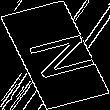N_E: (13, 27, 97, 83)
